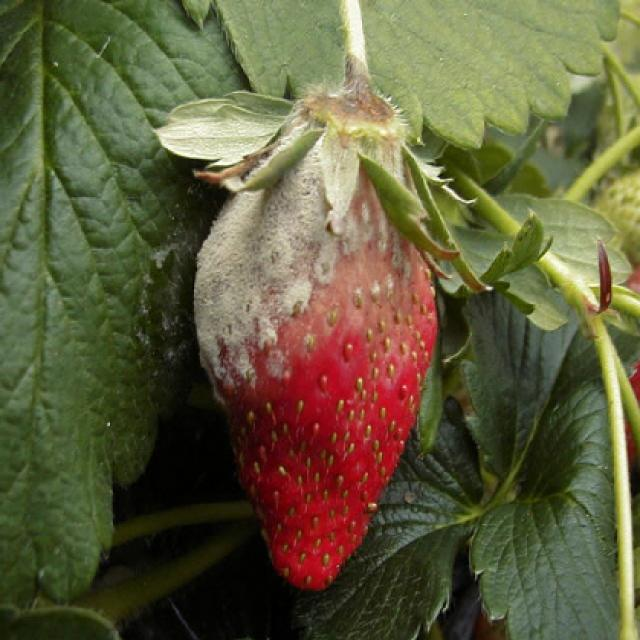Gray Mold: (191, 126, 437, 414)
